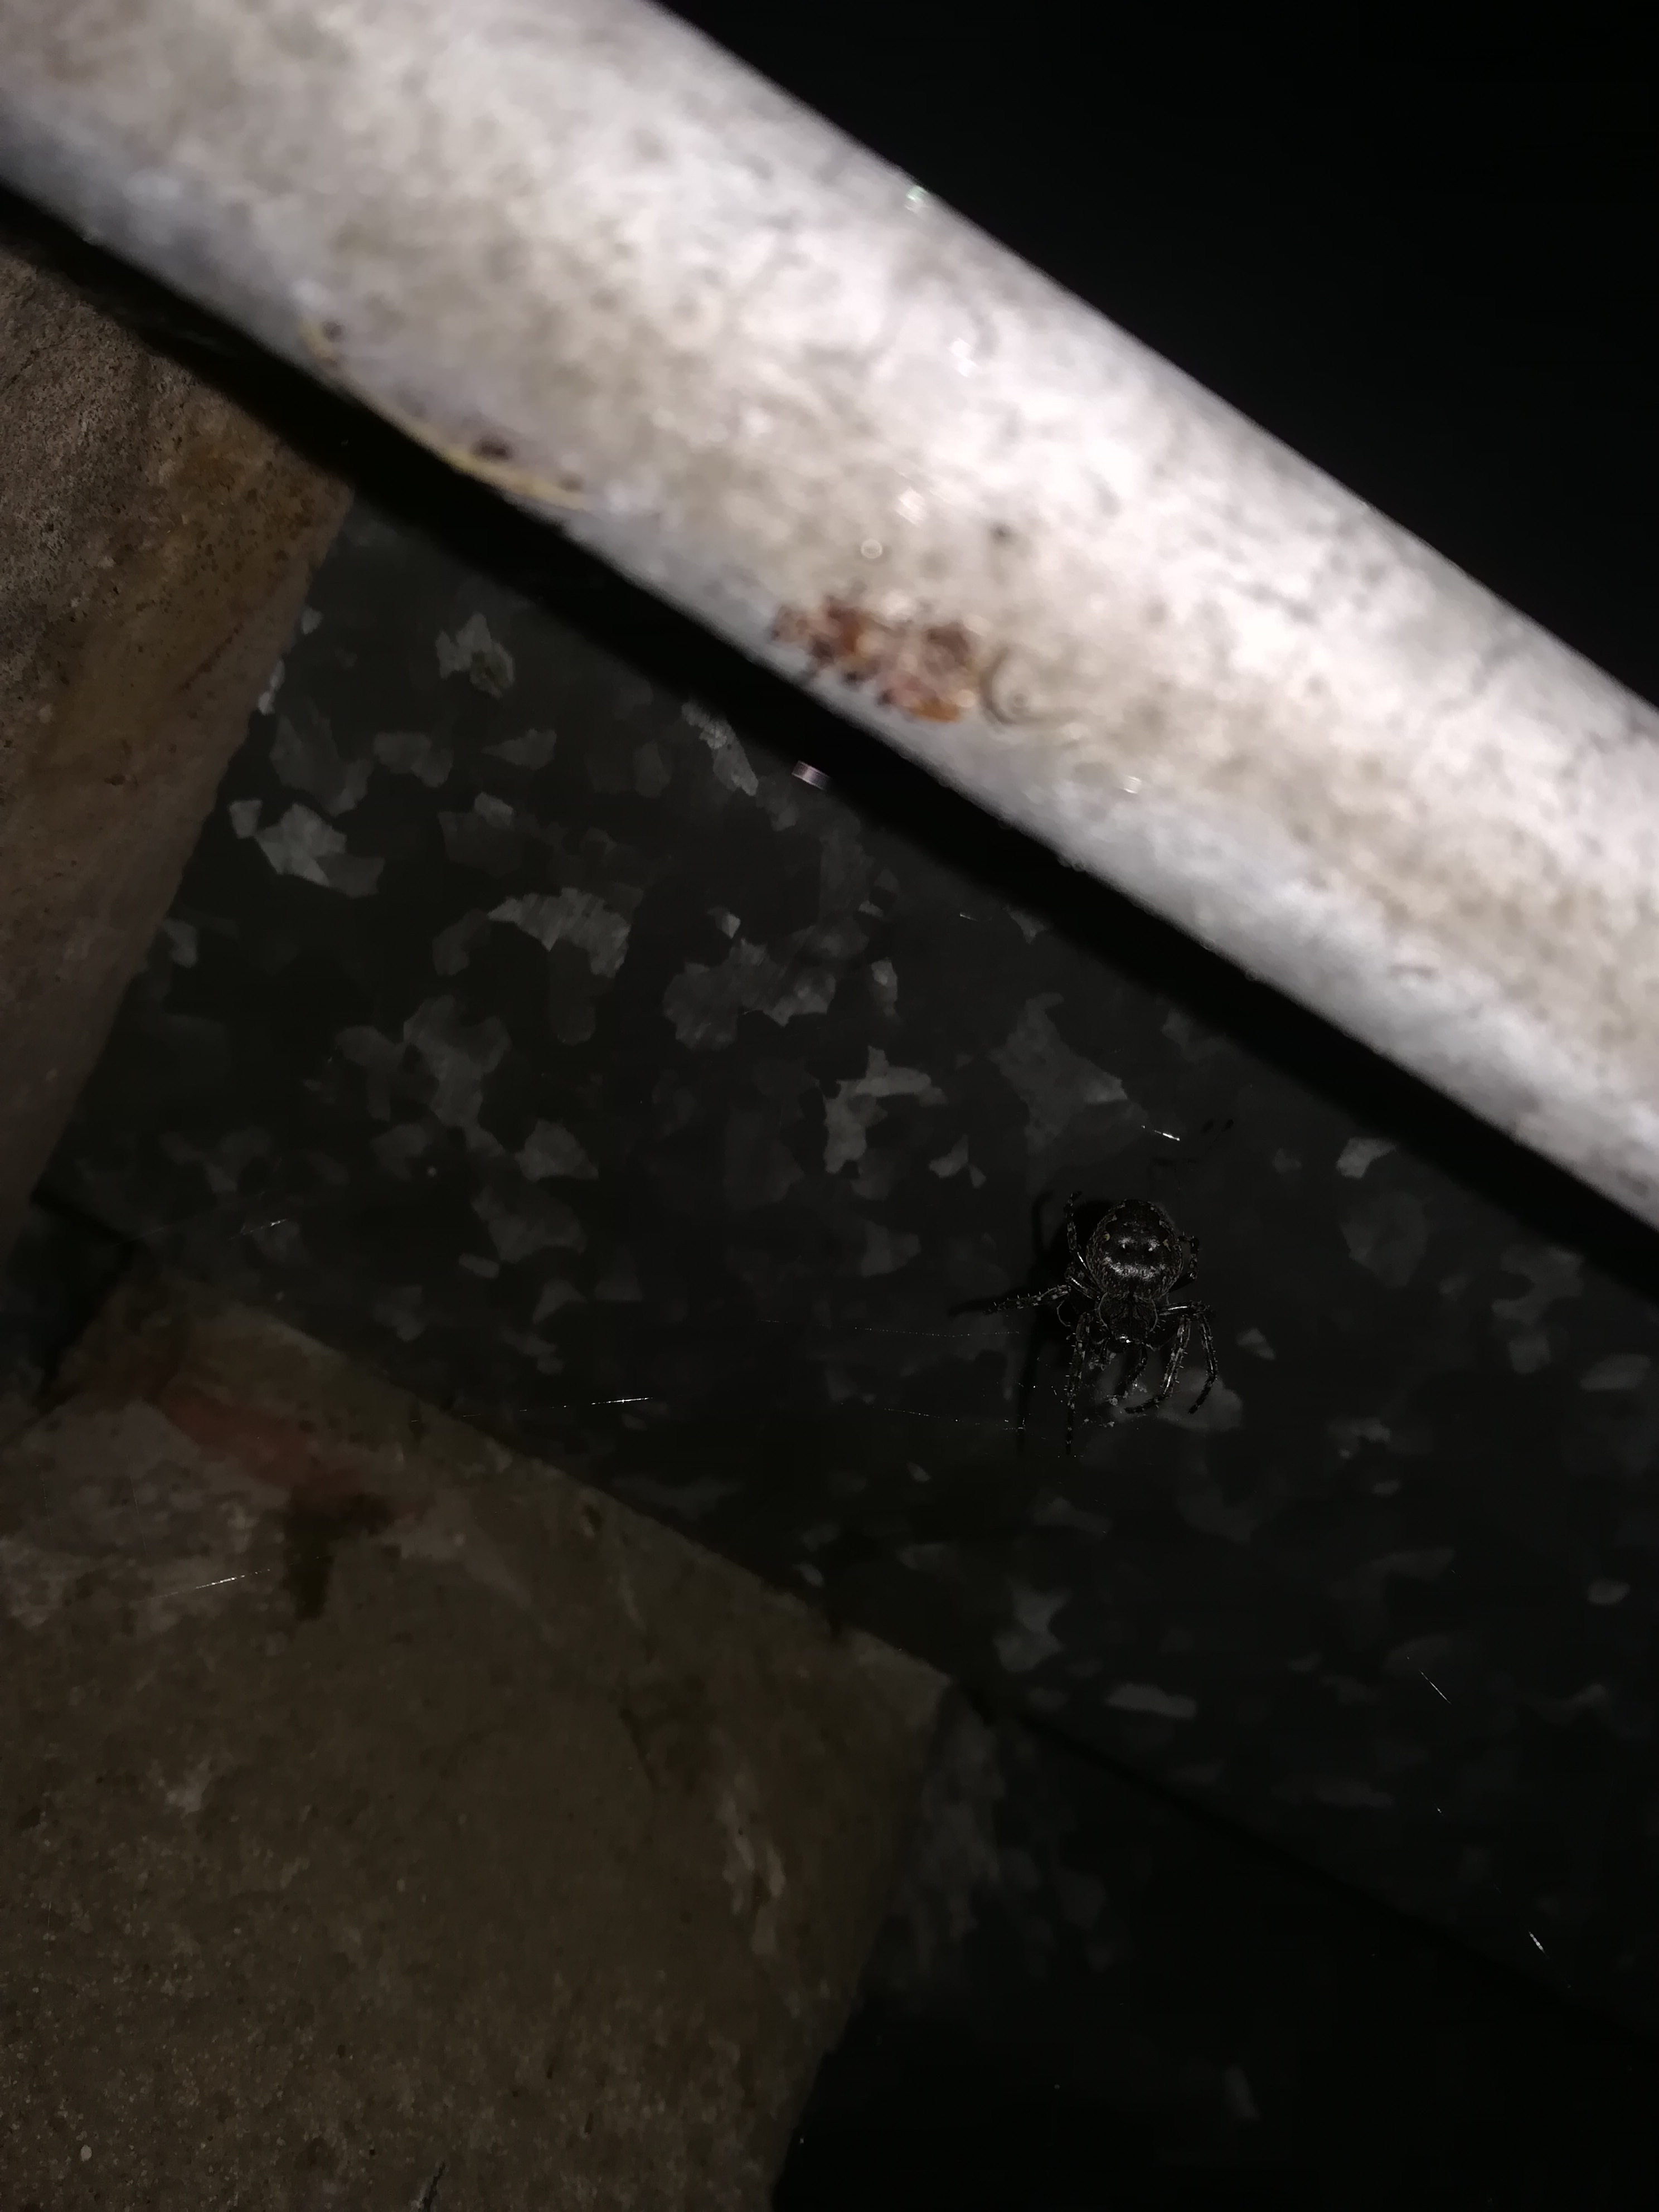spider: (922, 1129, 1270, 1493)
